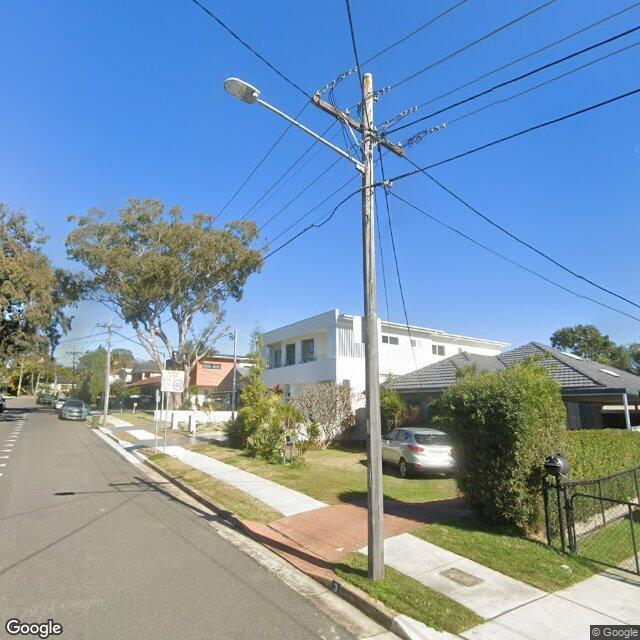crossarm: (310, 94, 407, 157), (97, 322, 121, 328), (66, 351, 80, 355)
steel-pole: (231, 329, 238, 415)
streetlight: (222, 76, 367, 170)
timber-pole: (362, 73, 385, 582), (102, 323, 111, 416), (72, 348, 76, 401)
